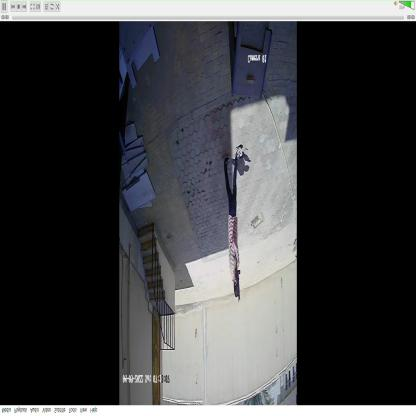handgun: (232, 245, 245, 305)
